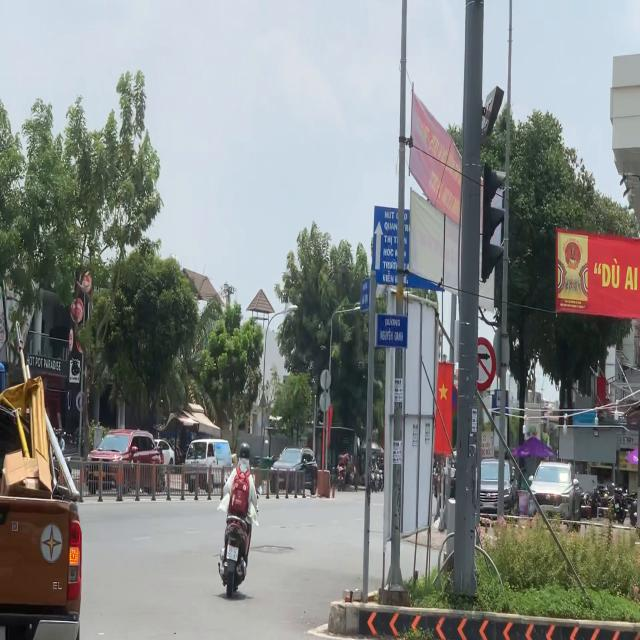Cam re phai: (468, 335, 497, 391)
